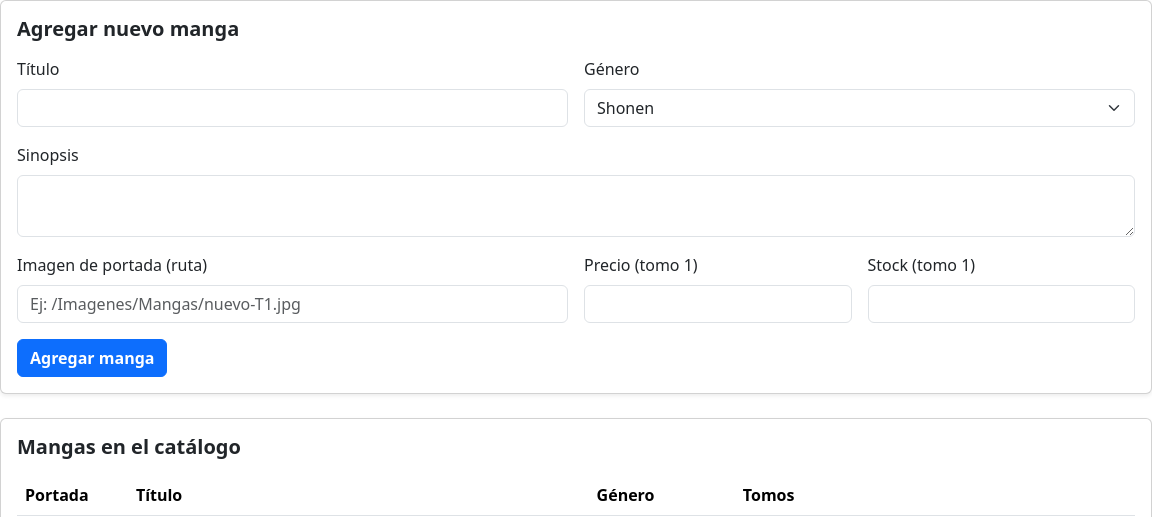
Test: mangas del catálogo › avisa si faltan textos o si el precio no es válido
Click the button "Agregar manga": {"x": 92, "y": 358} left=17, top=339, right=168, bottom=377
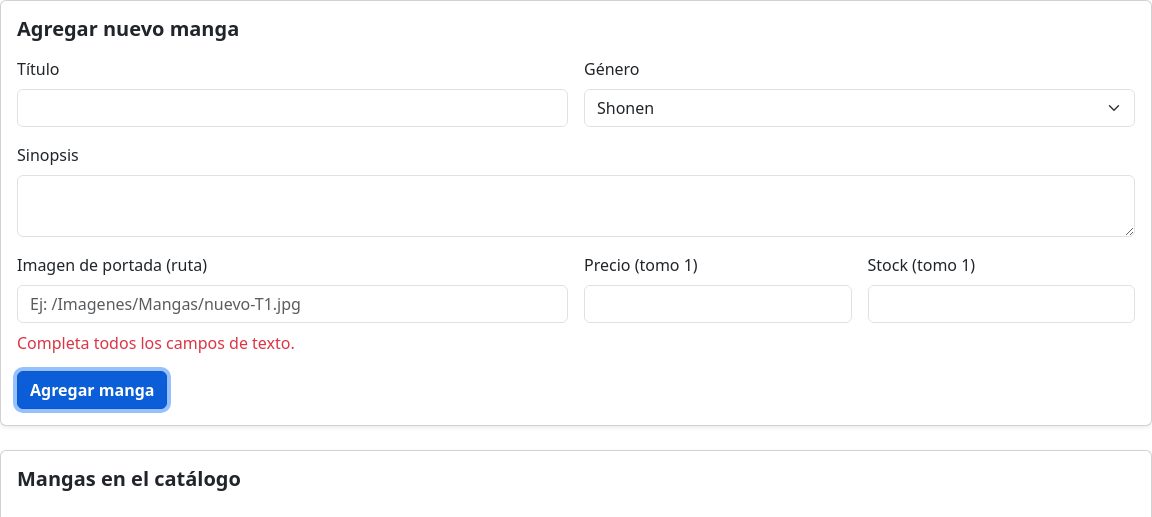
expect the text "Completa todos los campos de texto." is shown: met, box left=17, top=332, right=295, bottom=354
In the 1st field: {"x": 292, "y": 108} left=17, top=89, right=568, bottom=127, type "Manga"
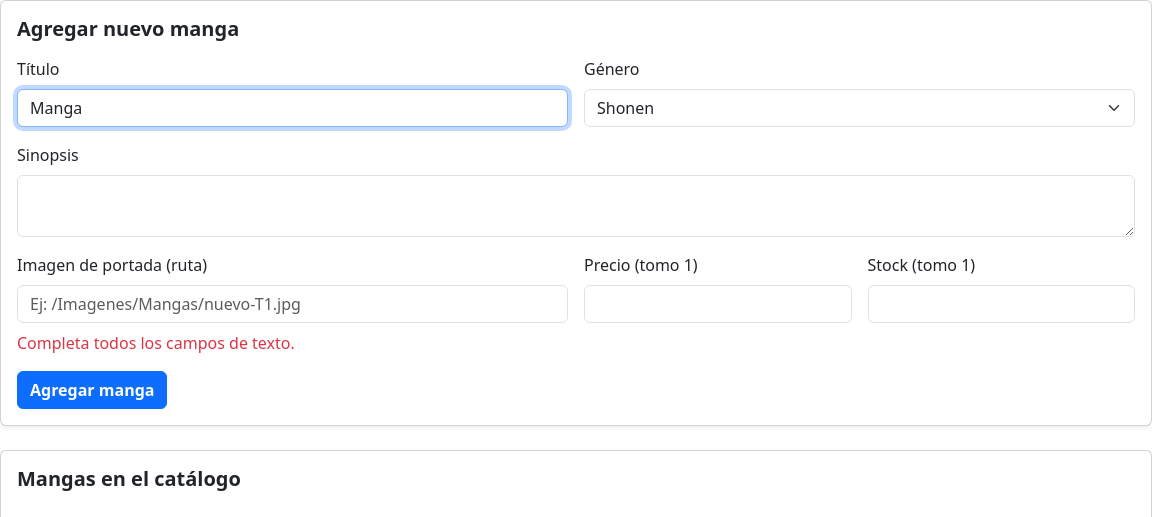
In the text box: {"x": 576, "y": 206} left=17, top=175, right=1135, bottom=237, type "Sinopsis"
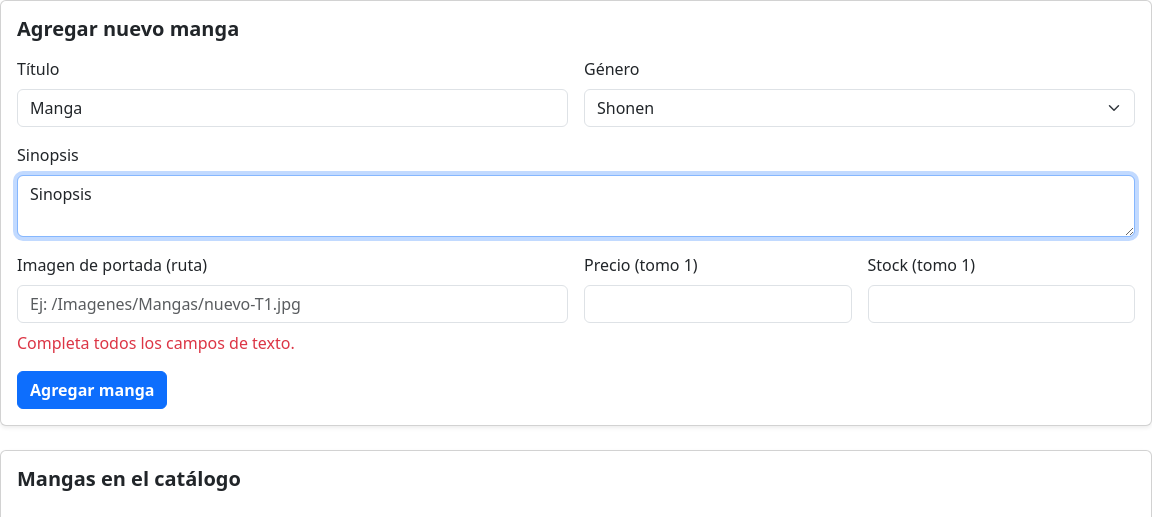
In the field with placeholder "Ej: /Imagenes/Mangas/nuevo-T1.jpg": {"x": 292, "y": 304} left=17, top=285, right=568, bottom=323, type "/x.jpg"
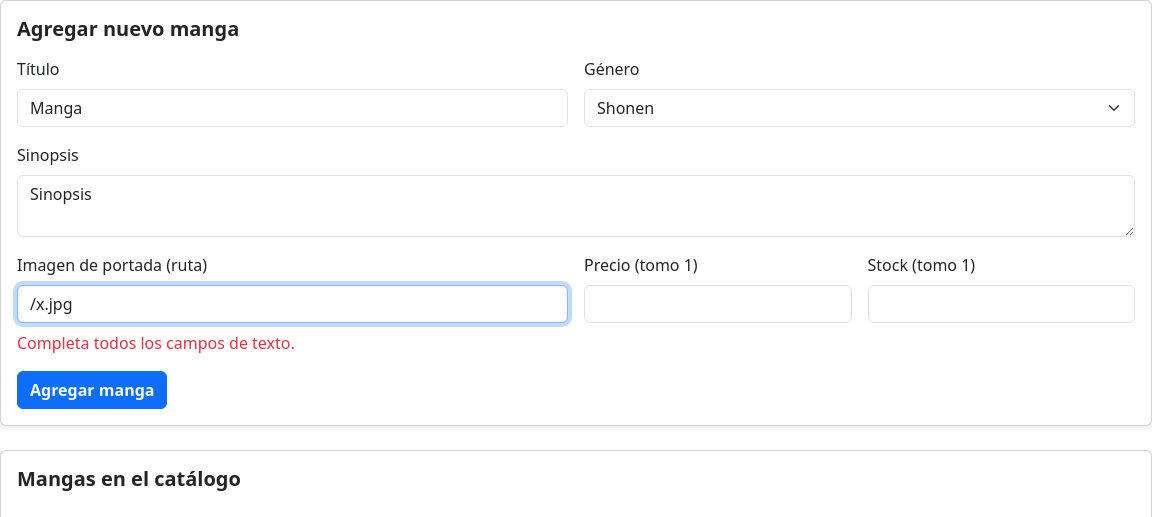
In the number field below "Stock (tomo 1)": {"x": 1001, "y": 304} left=868, top=285, right=1135, bottom=323, type "1.5"
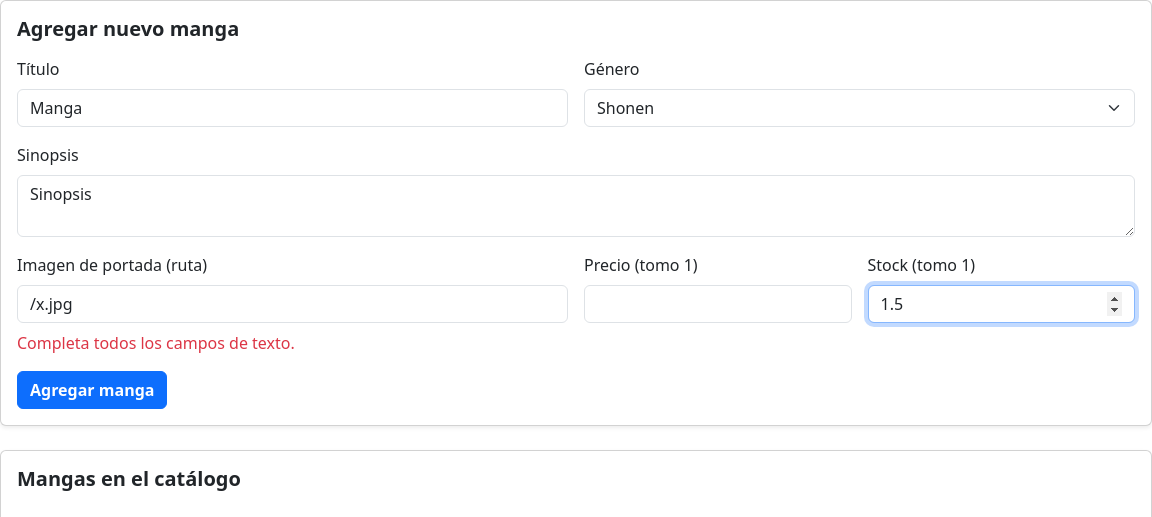
Click the button "Agregar manga": {"x": 92, "y": 390} left=17, top=371, right=168, bottom=409
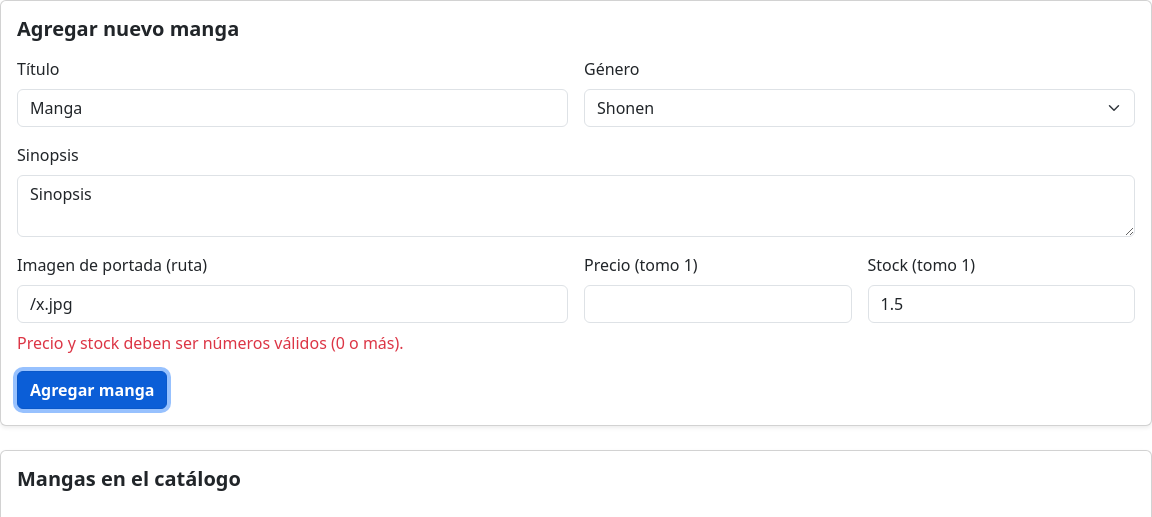
expect the text "Precio y stock deben ser números válidos (0 o más)." is shown: met, box left=17, top=332, right=404, bottom=354
